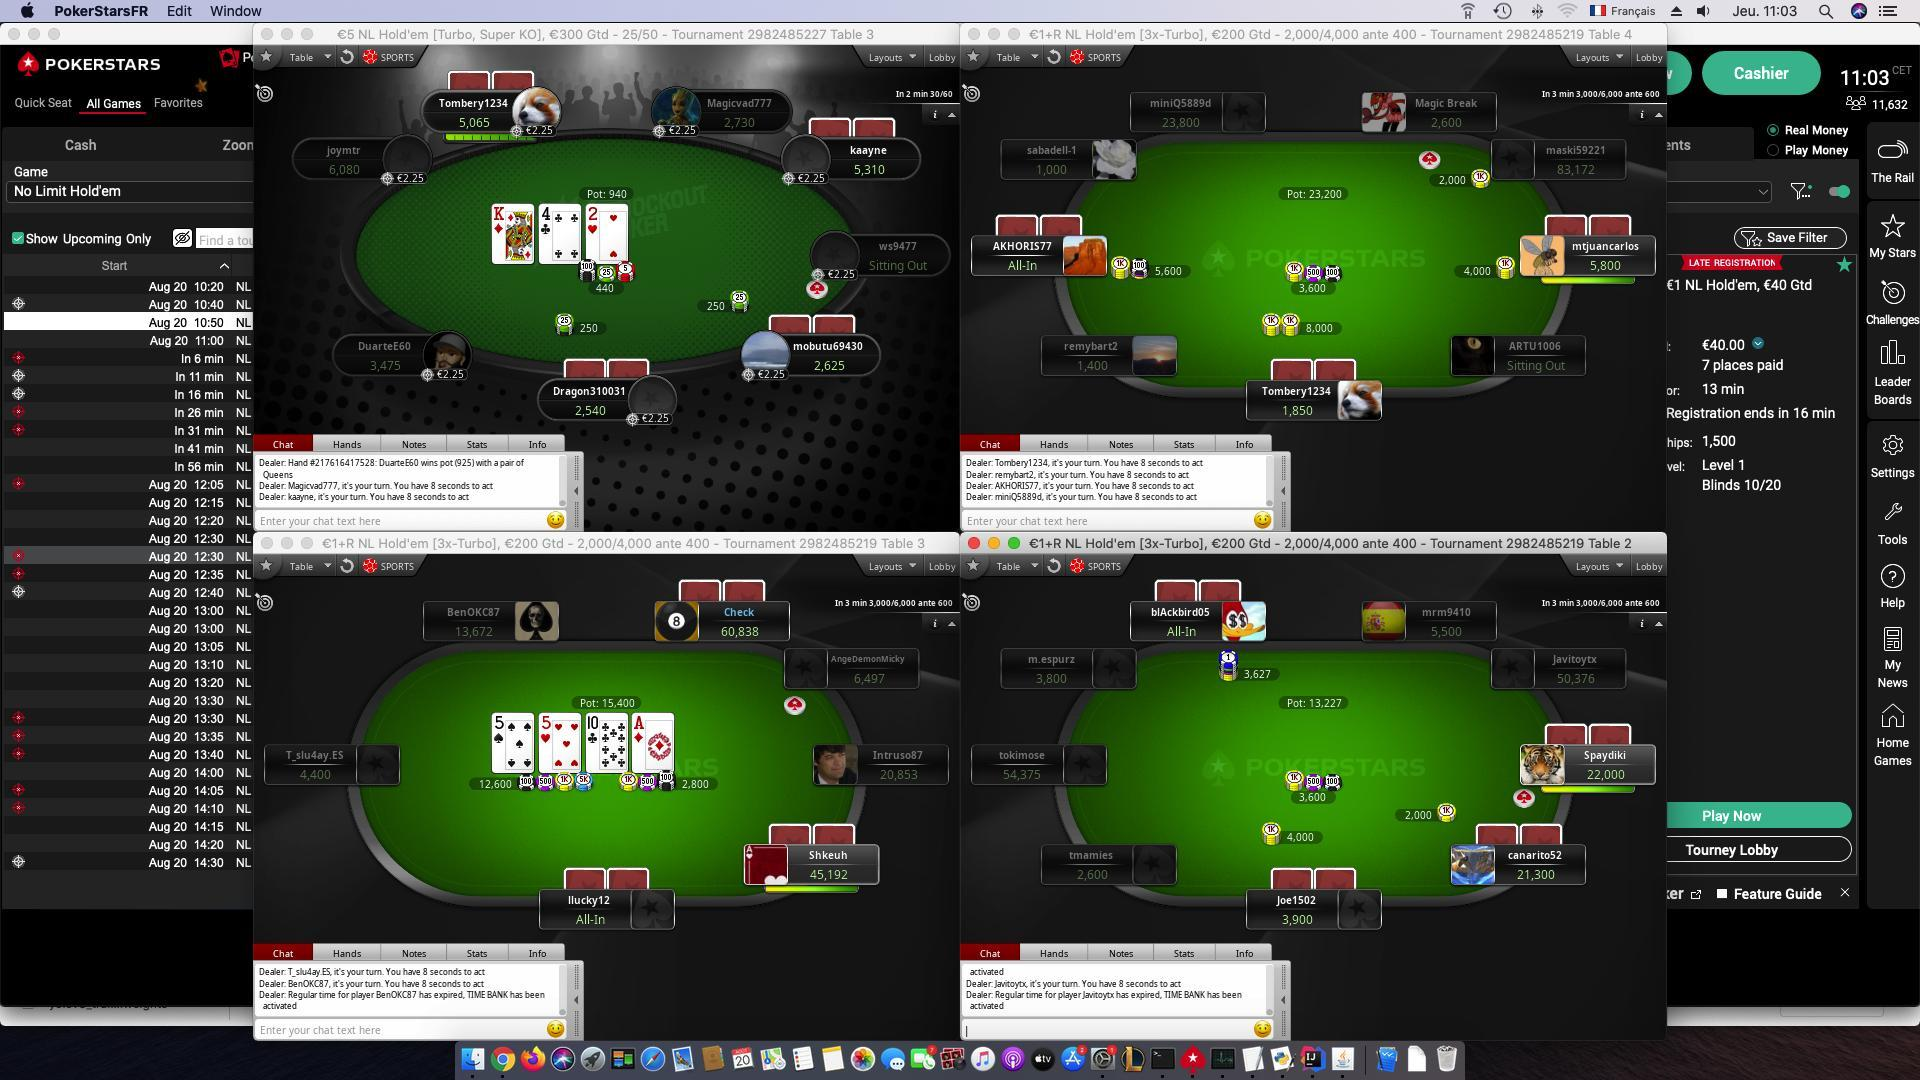10C: (582, 710, 604, 748)
2H: (586, 202, 605, 237)
4C: (538, 203, 556, 236)
5H: (535, 711, 557, 748)
5S: (492, 710, 507, 749)
AD: (632, 715, 650, 745)
KD: (487, 202, 507, 235)
